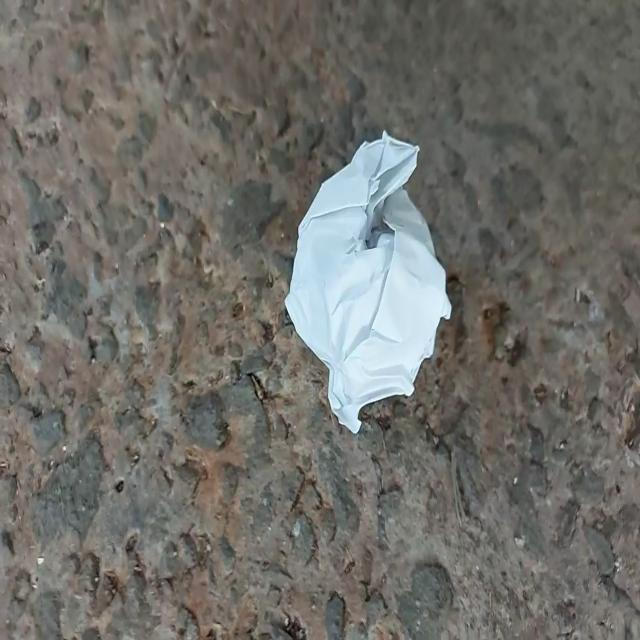Paper: (259, 110, 483, 451)
